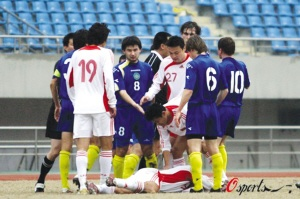falling: (82, 154, 217, 196)
